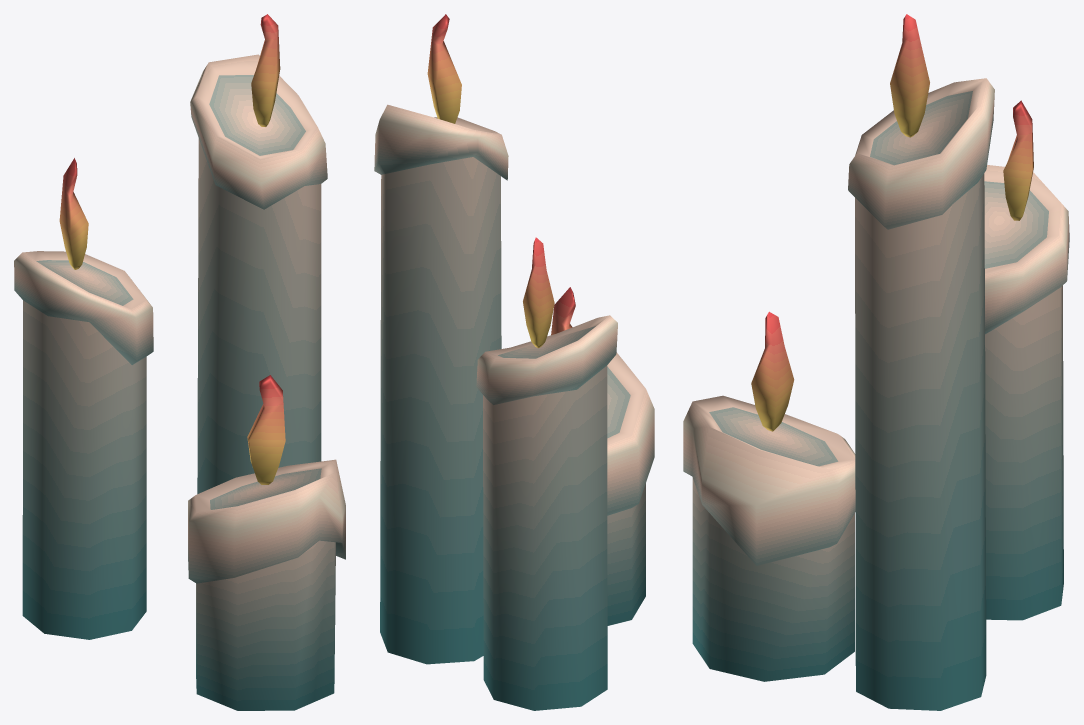
The model's file is White_Candles_Small.fbx.
3 renders of one model, left to right at view 1: azimuth 30°, elevation 25°; view 2: azimuth 150°, elevation 25°; view 3: azimuth 270°, elevation 25°, orthographic. The views are drawn at different scales.
Parts seen in each view (by area): view 1: pCube30; view 2: pCube30; view 3: pCube30.
Boxes of the visible parts, x1=… form: pCube30: x1=14, y1=14, x2=345, y2=710; pCube30: x1=374, y1=14, x2=654, y2=710; pCube30: x1=683, y1=14, x2=1069, y2=710.
Size of the model in its own units: 0.785 by 1.82 by 0.9492.
